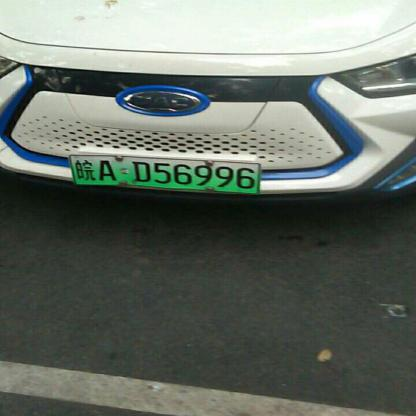lp: (70, 156, 257, 192)
